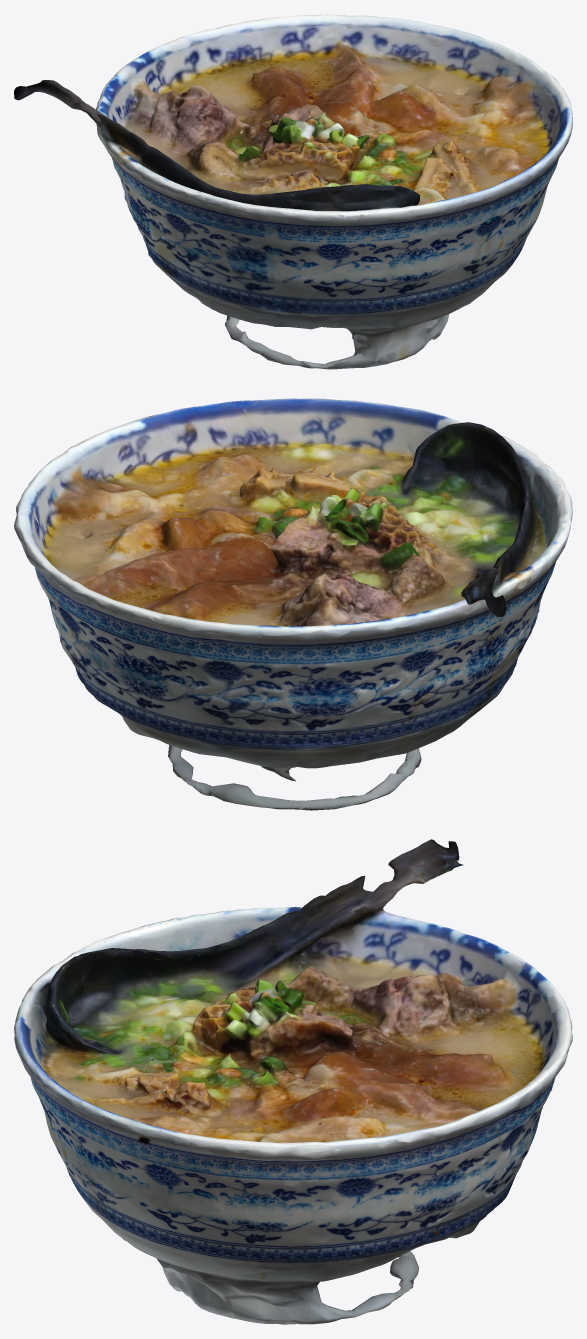
Rendered from bowl-tonkotsu.glb.
3 renders of one model, top to bottom at view 1: azimuth 30°, elevation 25°; view 2: azimuth 150°, elevation 25°; view 3: azimuth 270°, elevation 25°, orthographic. The views are drawn at different scales.
Visible parts, largest first — view 1: bowl_tonkotsu; view 2: bowl_tonkotsu; view 3: bowl_tonkotsu.
Part boxes in pixels (left/top/right/bottom): bowl_tonkotsu: left=14, top=14, right=572, bottom=369; bowl_tonkotsu: left=14, top=398, right=572, bottom=810; bowl_tonkotsu: left=14, top=839, right=572, bottom=1324.
Bounding box in the file's own units: 2.21 × 1.2 × 1.99.
1 material, 1 textured.
